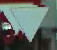Give way: (0, 1, 51, 44)
